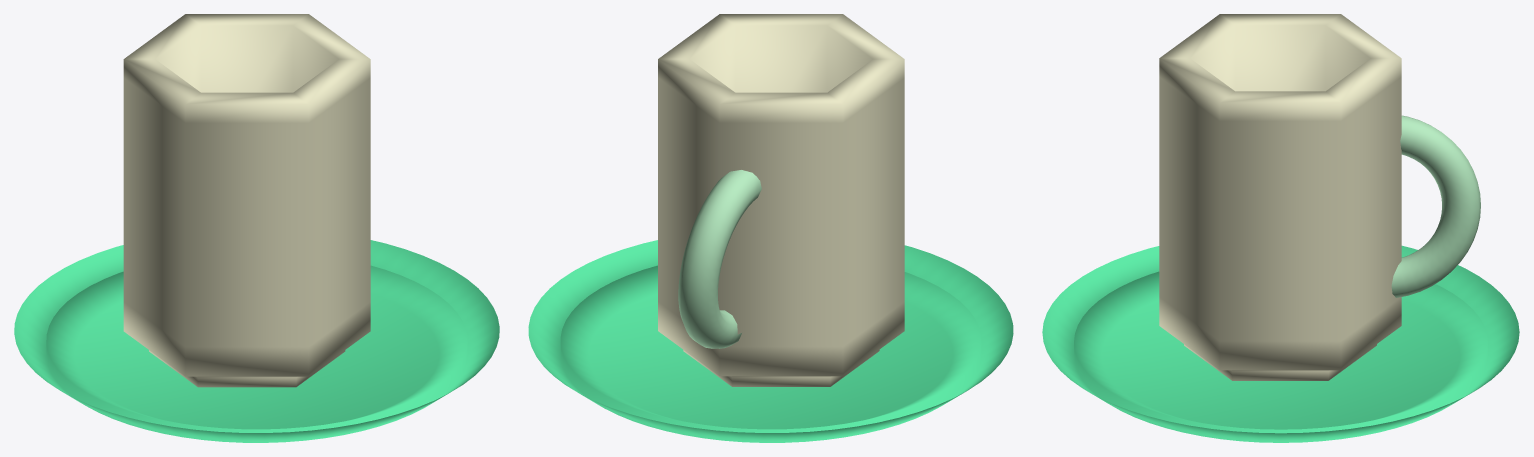
Rendered from Copia de Taza.glb.
3 renders of one model, left to right at view 1: azimuth 30°, elevation 25°; view 2: azimuth 150°, elevation 25°; view 3: azimuth 270°, elevation 25°, orthographic.
Visible parts, largest first — view 1: Cylinder, Circle001; view 2: Cylinder, Circle001, Torus; view 3: Cylinder, Circle001, Torus.
Boxes of the visible parts, box(x1,y1,x2,y2) form: Cylinder: box(123, 14, 370, 387); Circle001: box(14, 240, 499, 442); Cylinder: box(658, 14, 904, 386); Circle001: box(528, 240, 1013, 442); Torus: box(678, 170, 761, 348); Cylinder: box(1159, 14, 1401, 380); Circle001: box(1042, 245, 1519, 442); Torus: box(1391, 115, 1480, 297).
Bounding box in the file's own units: 3.93 × 2.66 × 3.93.
